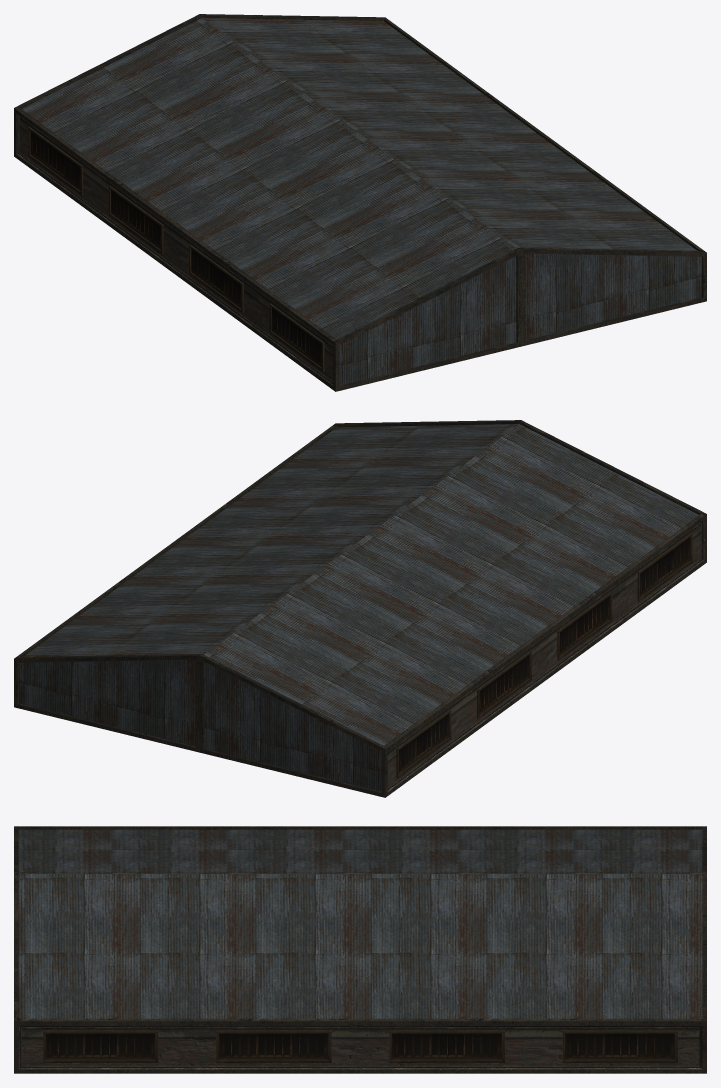
The model's file is roof_mh_4_a_3.glb.
3 renders of one model, top to bottom at view 1: azimuth 30°, elevation 25°; view 2: azimuth 150°, elevation 25°; view 3: azimuth 270°, elevation 25°, orthographic. The views are drawn at different scales.
Visible parts, largest first — view 1: roof_mh_4_a_3; view 2: roof_mh_4_a_3; view 3: roof_mh_4_a_3.
Part boxes in pixels (x1,y1,x2,y2): roof_mh_4_a_3: [14, 14, 706, 391]; roof_mh_4_a_3: [14, 420, 706, 797]; roof_mh_4_a_3: [14, 826, 706, 1073].
Size of the model in its own units: 8 by 2 by 12.
Materials: 6 (6 with a texture image).
